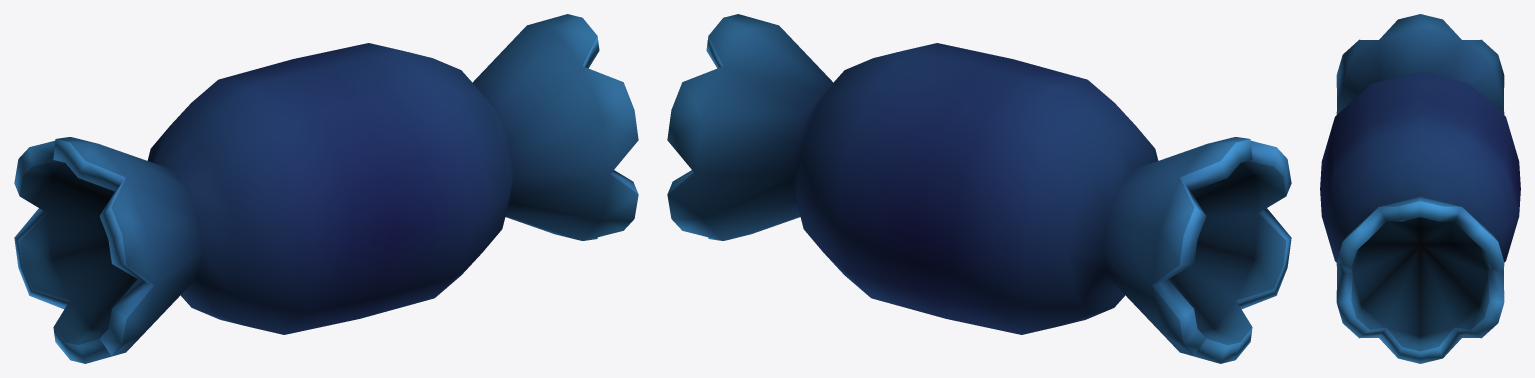
The model's file is Candy_01.fbx.
3 renders of one model, left to right at view 1: azimuth 30°, elevation 25°; view 2: azimuth 150°, elevation 25°; view 3: azimuth 270°, elevation 25°, orthographic. The views are drawn at different scales.
Parts seen in each view (by area): view 1: Candy_01; view 2: Candy_01; view 3: Candy_01.
Boxes of the visible parts, left/top/right/bottom form: Candy_01: left=14, top=14, right=638, bottom=363; Candy_01: left=667, top=14, right=1291, bottom=363; Candy_01: left=1320, top=14, right=1520, bottom=363.
Bounding box in the file's own units: 48.1 × 21.41 × 21.41.
